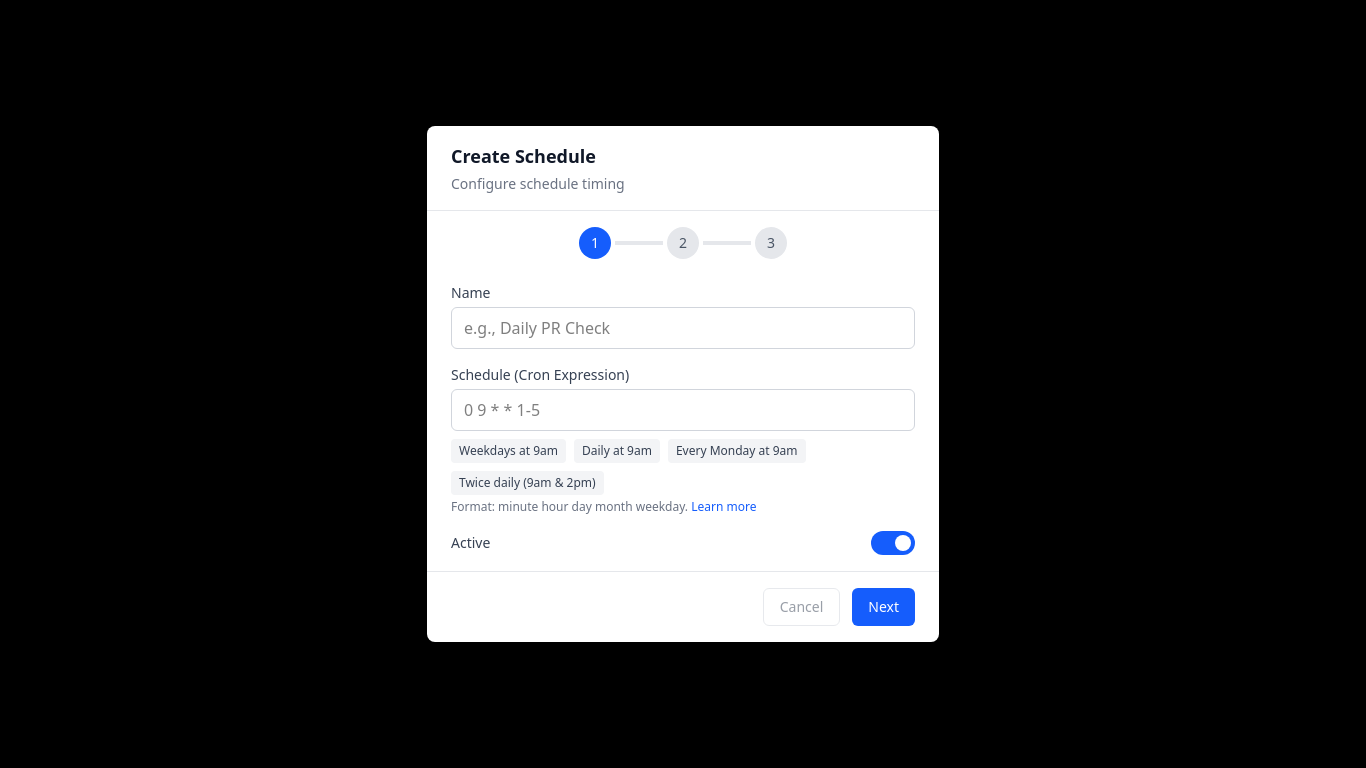
Scenario: ScheduleForm › Loading State › shows saving state in submit button
Navigate to step 3
Type "Test" into the field labelled "Name" at {"x": 683, "y": 328}, box [451,307,915,349]
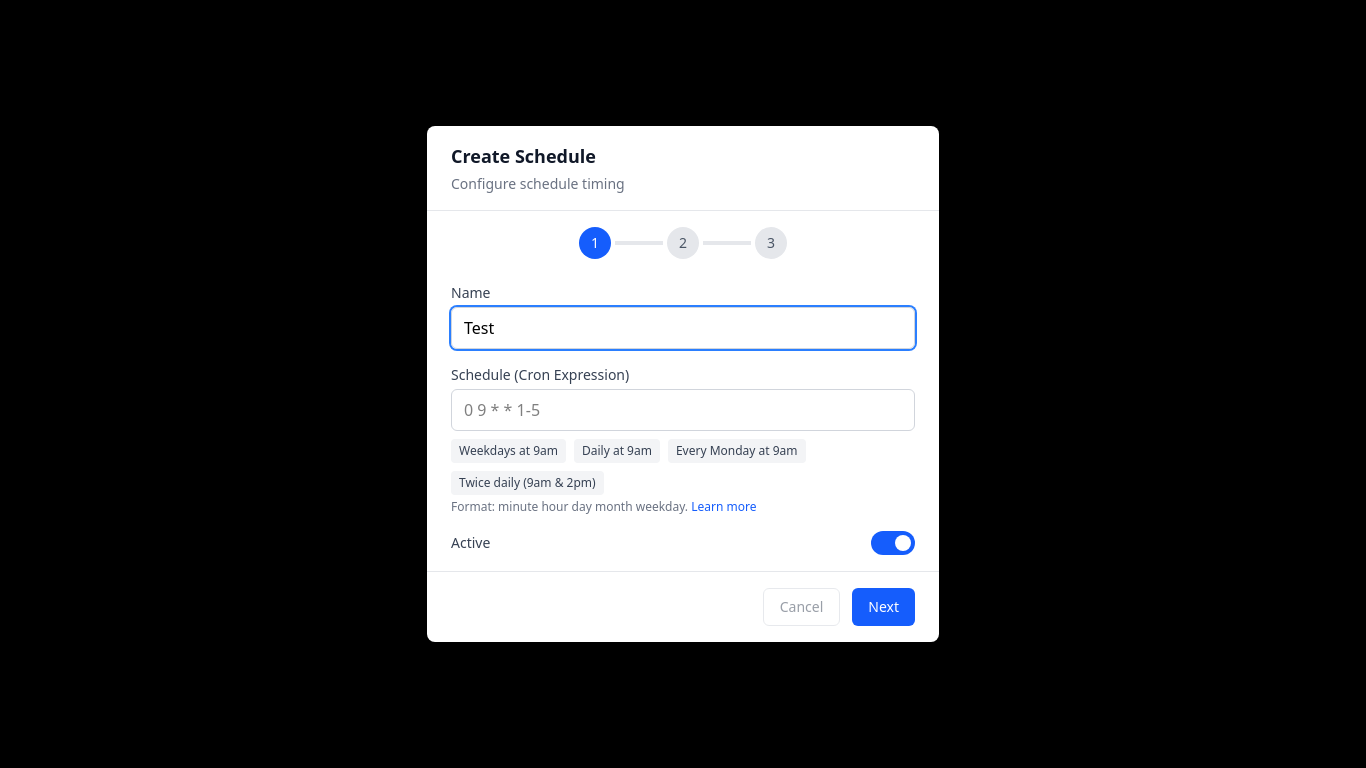
Click the button "Daily at 9am" at {"x": 617, "y": 451}, box [574,439,660,463]
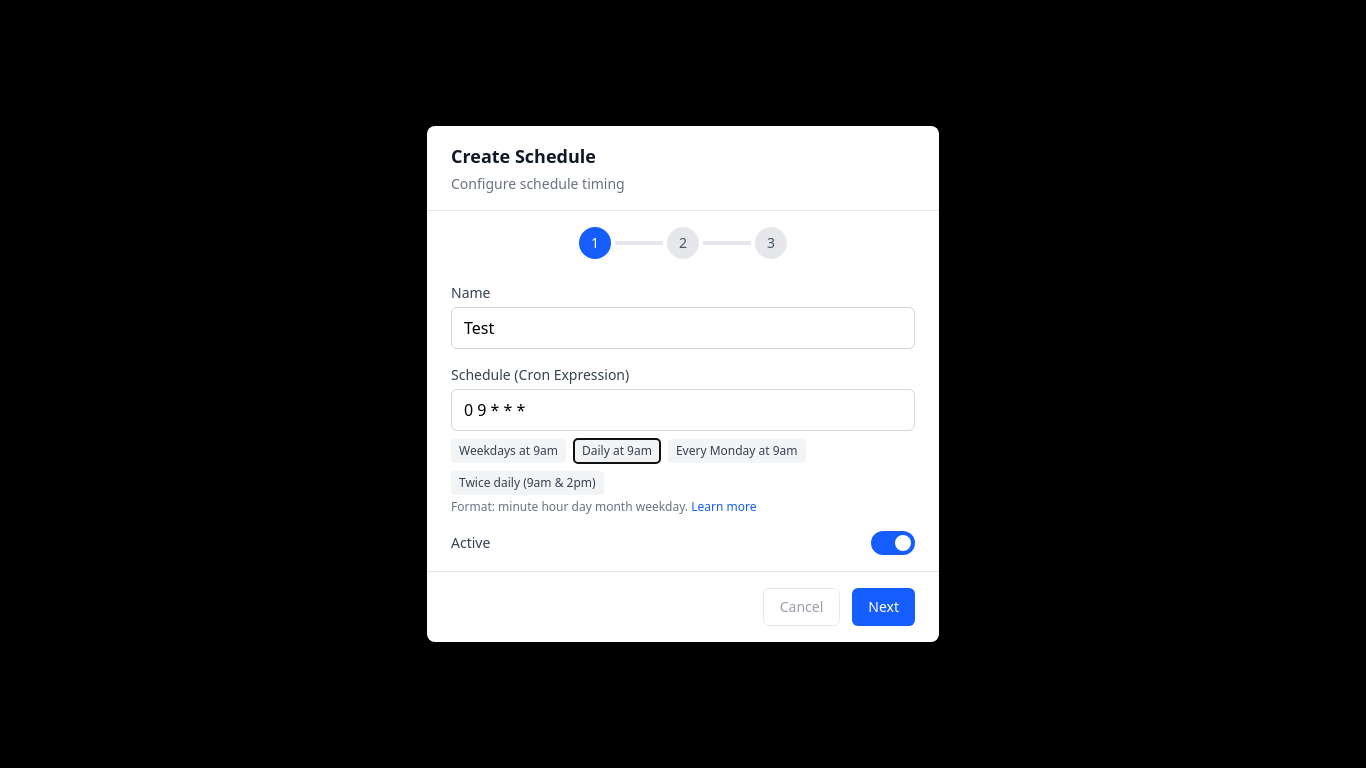
Click the button "Next" at {"x": 884, "y": 607}, box [852,588,915,626]
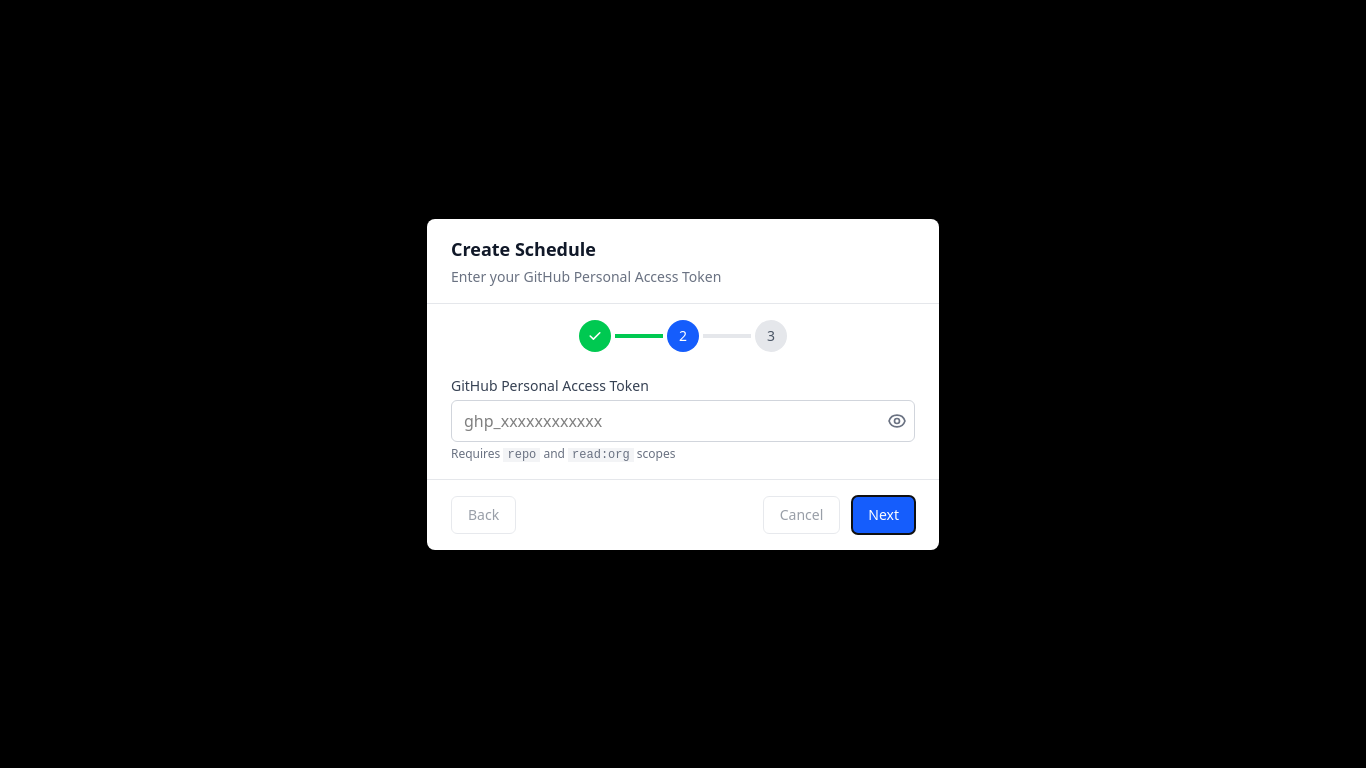
Type "ghp_test" into the password field labelled "GitHub Personal Access Token" at {"x": 683, "y": 420}, box [451,400,915,442]
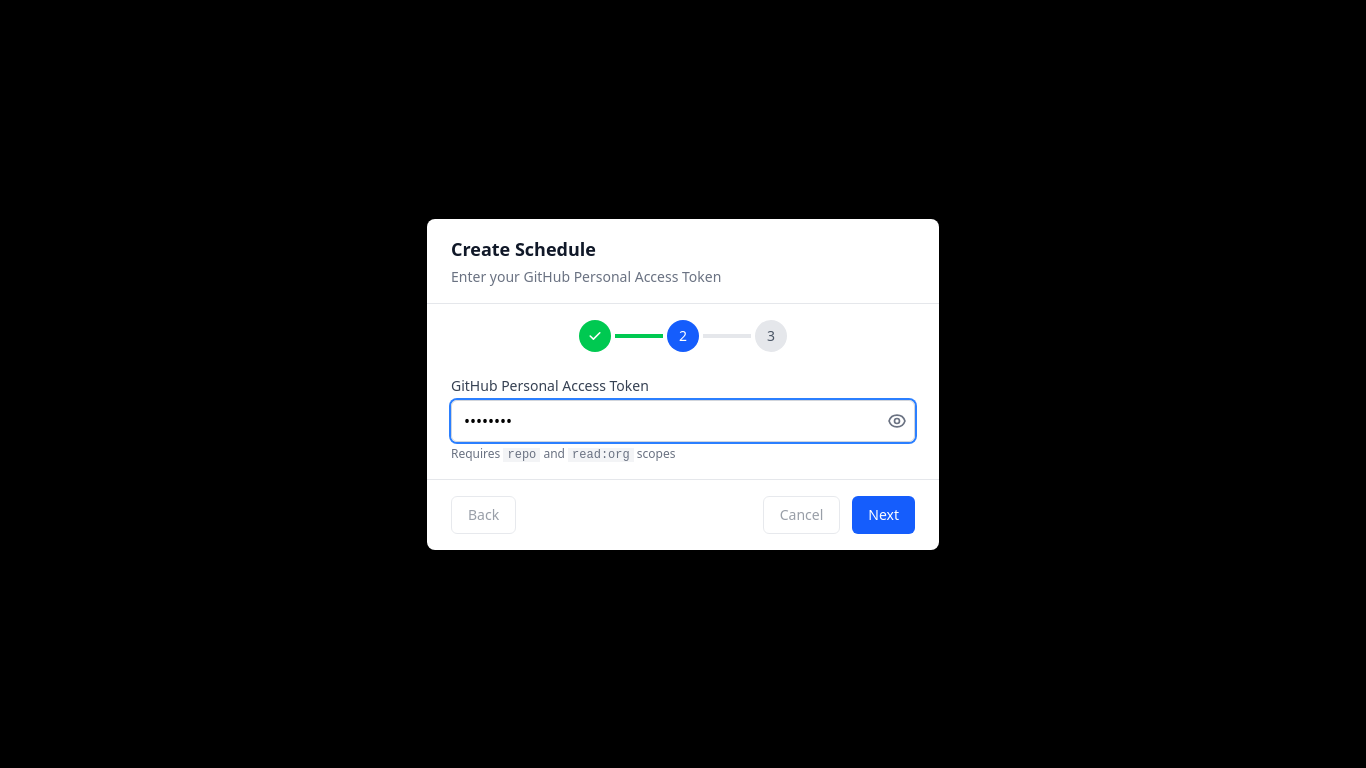
Click the button "Next" at {"x": 884, "y": 514}, box [852,496,915,534]
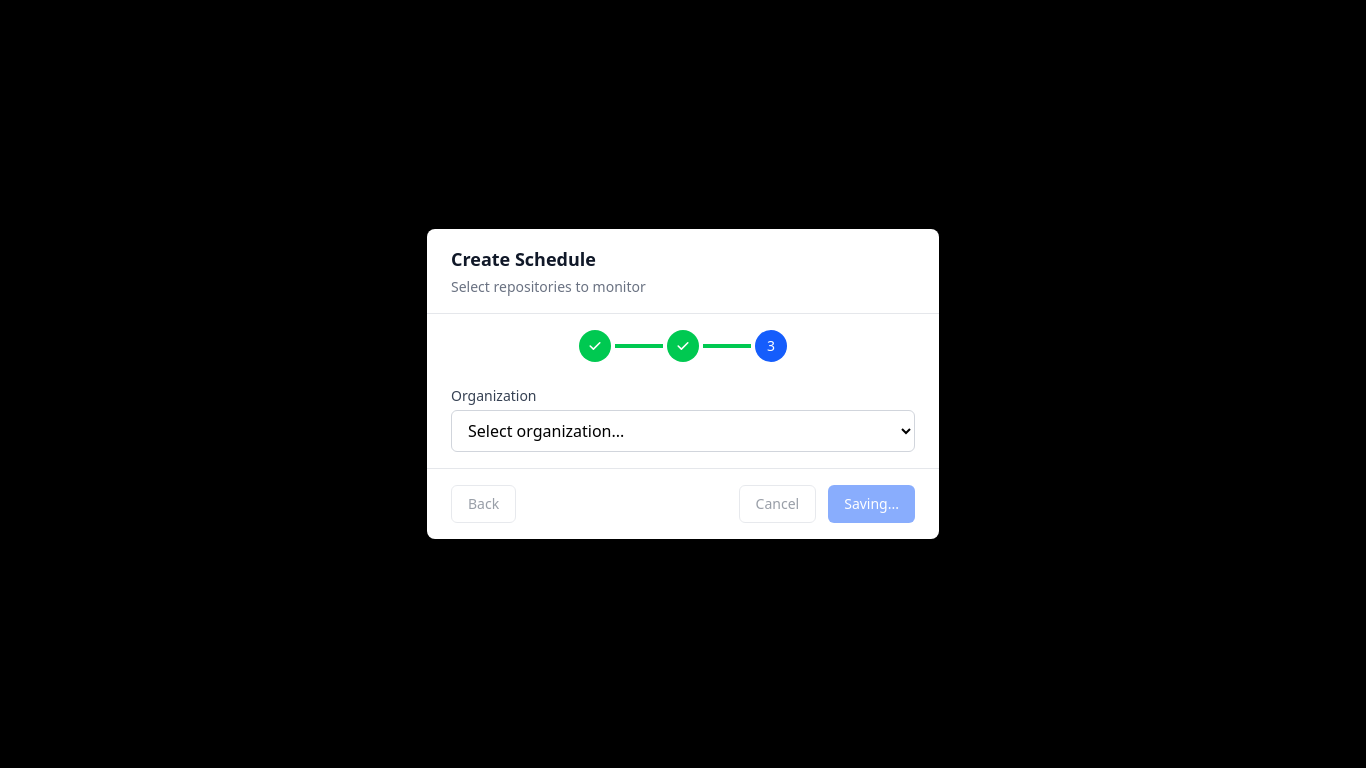
expect the button "Saving..." is shown: met, box [828,485,915,523]
